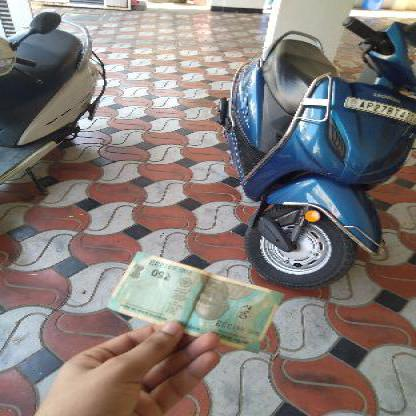New50Front: (109, 245, 284, 355)
